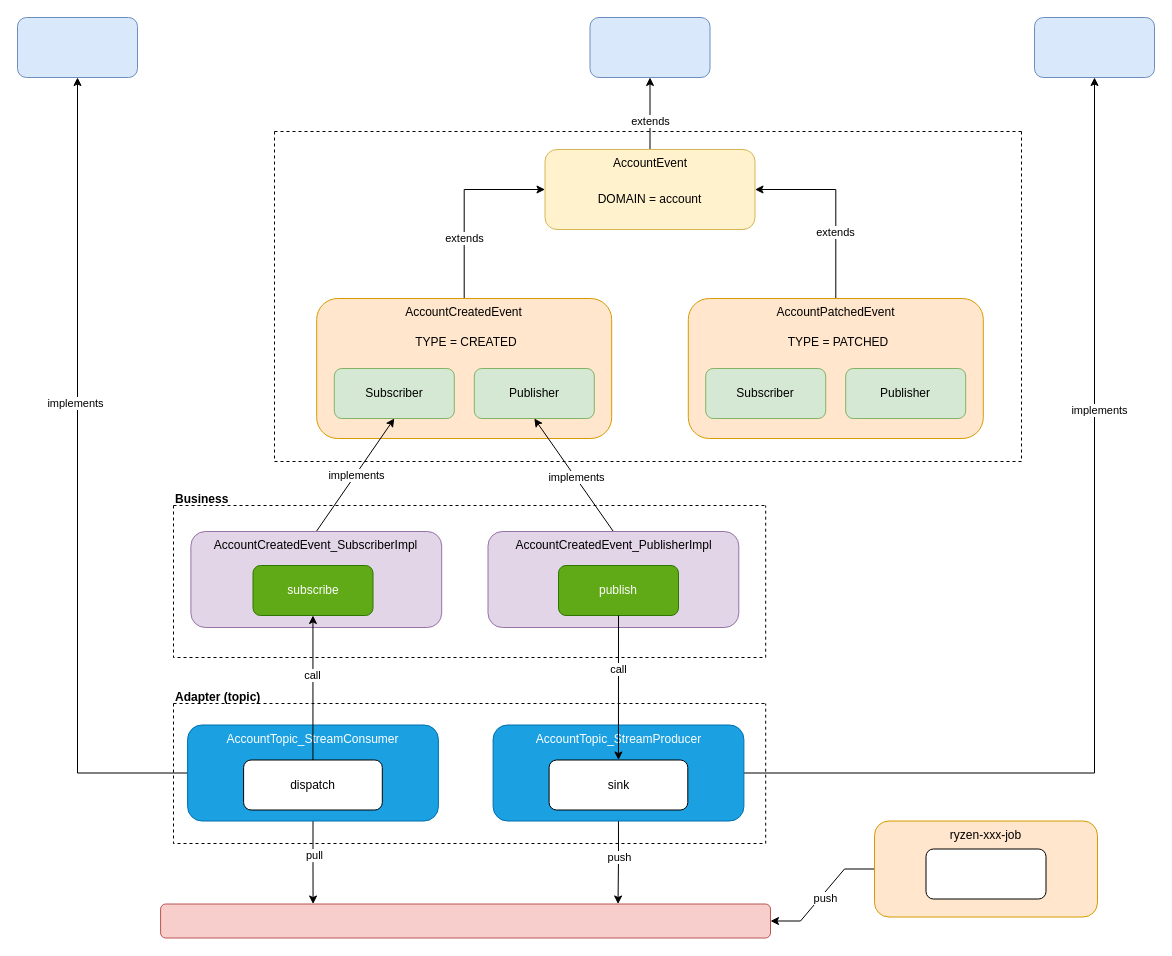
Image size: 1172x956. Some labels were removed from this diagram. Here are the shapes that lost their labels. From the top down, the box of each, then its label:
(16, 16, 138, 78): StreamConsumer
(589, 16, 710, 78): Stream
(1034, 16, 1154, 78): StreamProducer
(274, 130, 1022, 462): Model
(925, 848, 1046, 899): stream_outbox
(160, 903, 770, 938): MQ(kafka)
